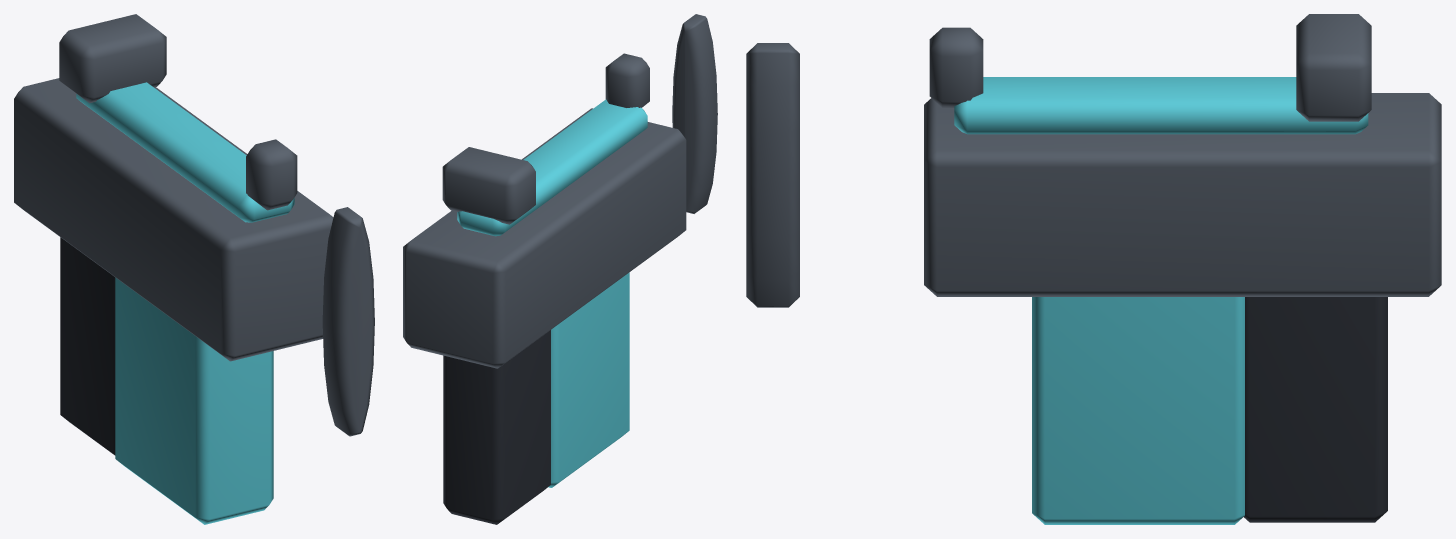
File: Ammo1gun.fbx
The picture shows the model from 3 angles, left to right: view 1: azimuth 30°, elevation 25°; view 2: azimuth 150°, elevation 25°; view 3: azimuth 270°, elevation 25°; orthographic projection. The views are drawn at different scales.
Visible parts, largest first — view 1: Receiver, Magazine, Grip, Barrel, TopRail, SightRear, SightFront; view 2: Receiver, Grip, Magazine, Barrel, TopRail, SightRear, SightFront; view 3: Receiver, Magazine, Grip, TopRail, Barrel, SightRear, SightFront.
Part boxes in pixels (bbox=[...]): Receiver: bbox=[14, 78, 333, 361]; Magazine: bbox=[115, 277, 273, 524]; Grip: bbox=[60, 237, 115, 455]; Barrel: bbox=[322, 207, 374, 436]; TopRail: bbox=[76, 82, 294, 222]; SightRear: bbox=[59, 14, 166, 103]; SightFront: bbox=[246, 139, 297, 210]; Receiver: bbox=[403, 108, 686, 368]; Grip: bbox=[443, 330, 550, 524]; Magazine: bbox=[548, 272, 629, 487]; Barrel: bbox=[672, 14, 717, 213]; TopRail: bbox=[457, 99, 647, 236]; SightRear: bbox=[442, 147, 535, 224]; SightFront: bbox=[605, 53, 649, 107]; Receiver: bbox=[924, 93, 1441, 296]; Magazine: bbox=[1032, 297, 1244, 524]; Grip: bbox=[1244, 297, 1387, 522]; TopRail: bbox=[954, 77, 1368, 134]; Barrel: bbox=[746, 43, 799, 307]; SightRear: bbox=[1296, 14, 1371, 121]; SightFront: bbox=[929, 27, 983, 107].
Size of the model in its own units: 15 by 48.5 by 64.5.
